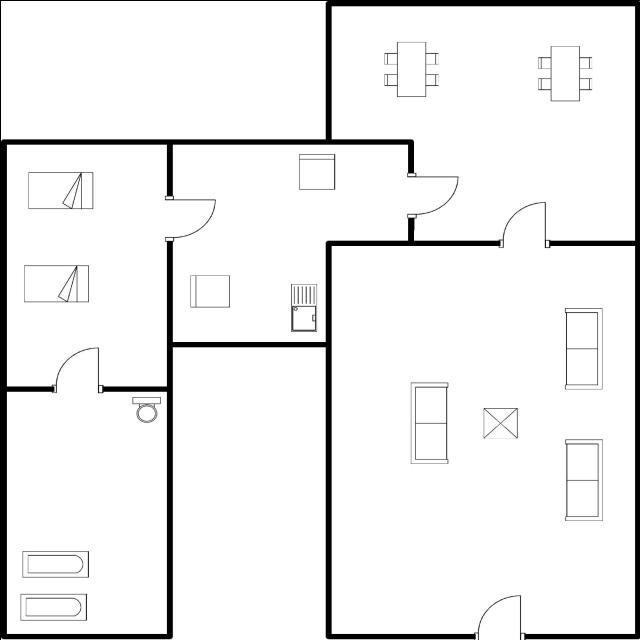bed: (25, 168, 99, 214), (19, 260, 94, 304)
coffee_table: (479, 403, 523, 441)
dining_table: (378, 36, 442, 100), (534, 40, 596, 106)
large_sink: (127, 392, 163, 424)
large_sofa: (403, 378, 453, 468), (560, 432, 608, 524), (558, 303, 606, 393)
sink: (284, 280, 320, 334)
small_sofa: (293, 148, 343, 194), (186, 272, 233, 312)
tub: (17, 544, 93, 582), (15, 588, 94, 624)
